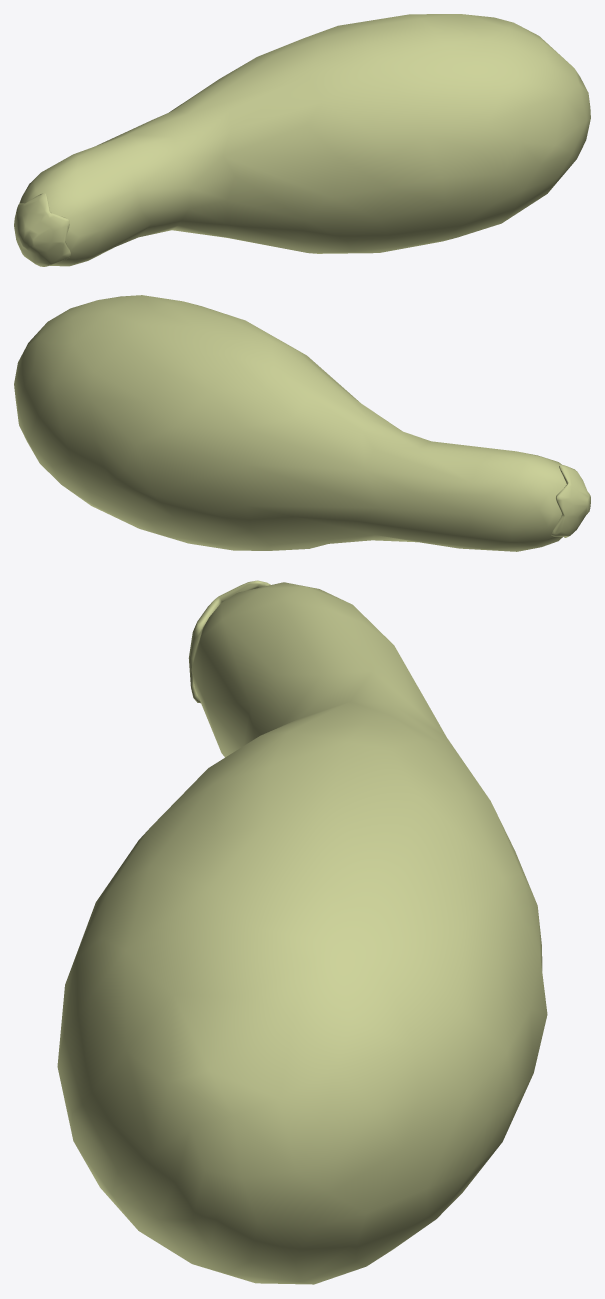
Rendered from Squash.fbx.
The picture shows the model from 3 angles, top to bottom: view 1: azimuth 30°, elevation 25°; view 2: azimuth 150°, elevation 25°; view 3: azimuth 270°, elevation 25°; orthographic projection. The views are drawn at different scales.
Parts seen in each view (by area): view 1: Squash; view 2: Squash; view 3: Squash.
Part boxes in pixels (x1=…): Squash: x1=14, y1=14, x2=590, y2=266; Squash: x1=14, y1=295, x2=590, y2=551; Squash: x1=57, y1=580, x2=547, y2=1284.
Bounding box in the file's own units: 18.03 × 6.46 × 6.82.
